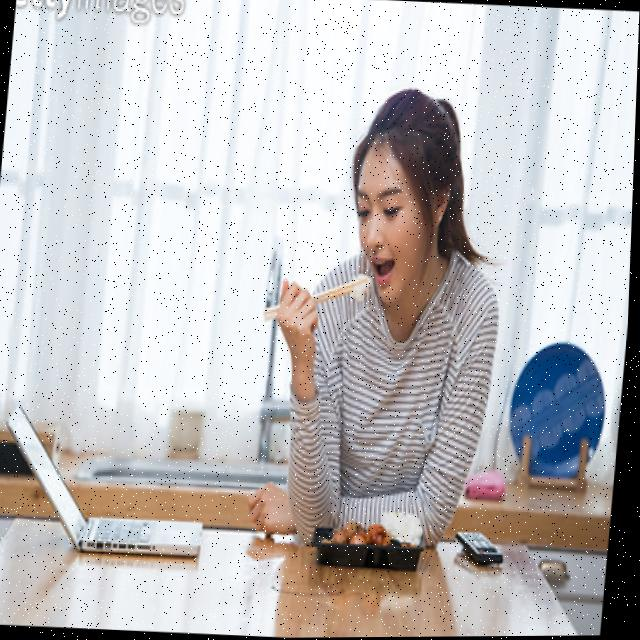eating-person: (222, 62, 533, 595)
